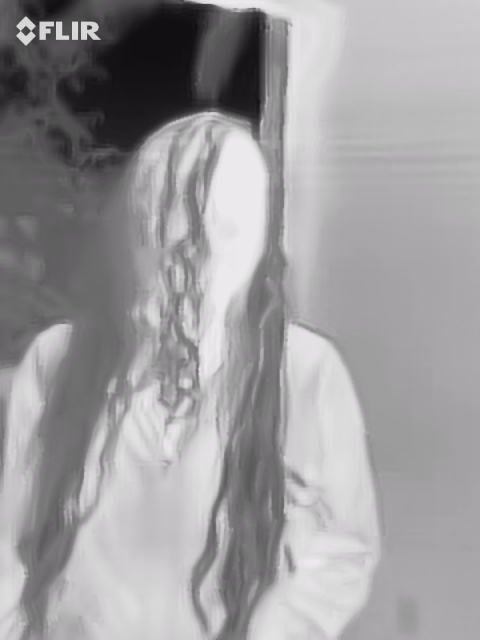head: (152, 121, 271, 309)
